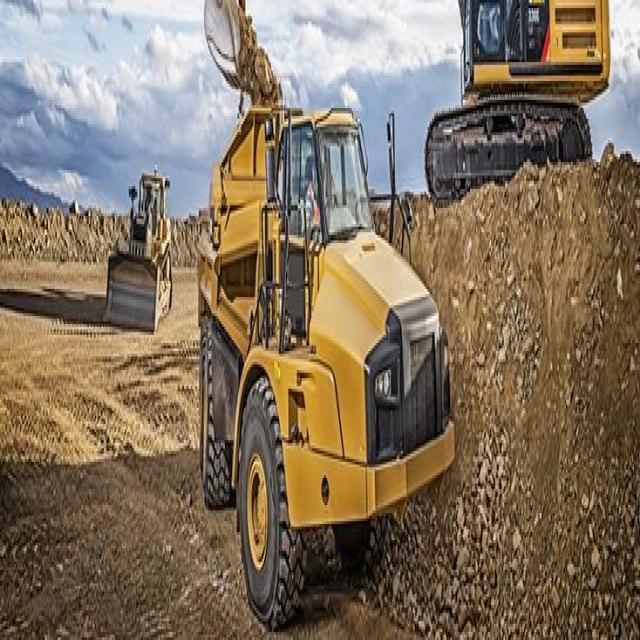buldozerpayloadergrader: (101, 124, 189, 376)
dump_truck: (190, 84, 488, 624)
excavator: (421, 2, 614, 210)
